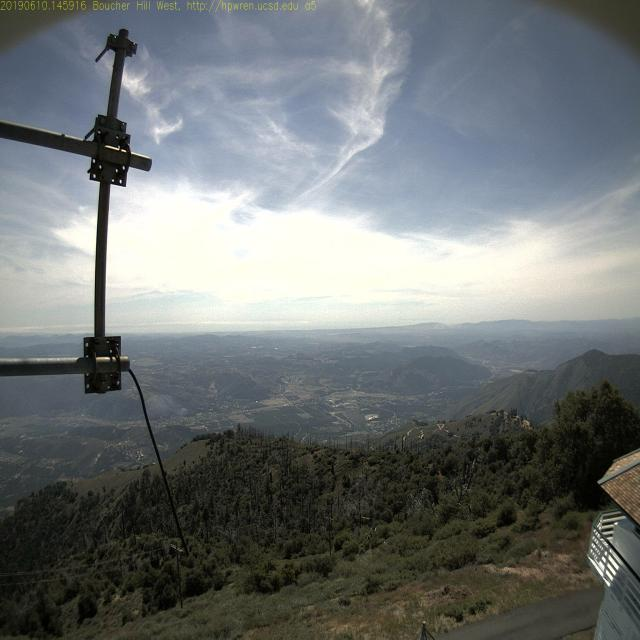smoke: (177, 397, 192, 422)
